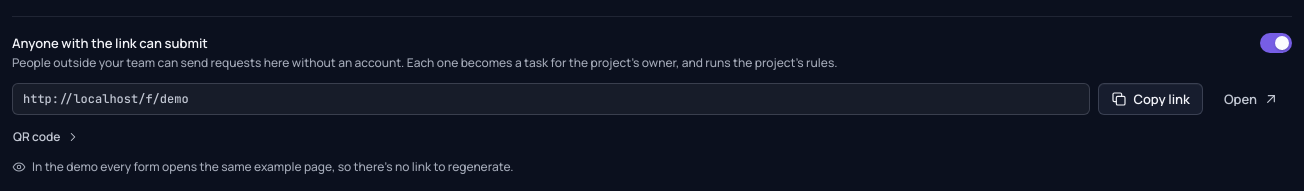
in the demo › copies the link
Click the button "Copy link".
click(1151, 99)  # box [1098,83,1203,115]
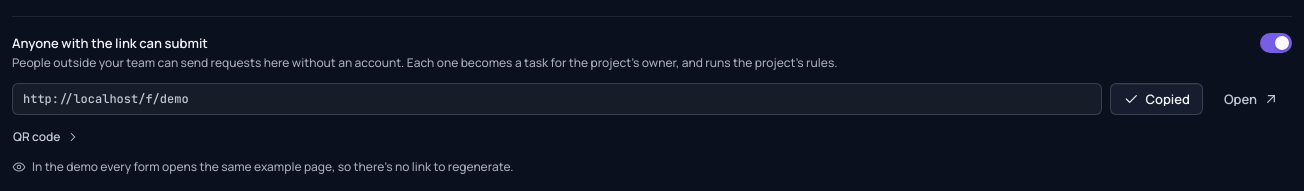
Expected: the button "Copied" is shown, [1110,83,1203,115]
